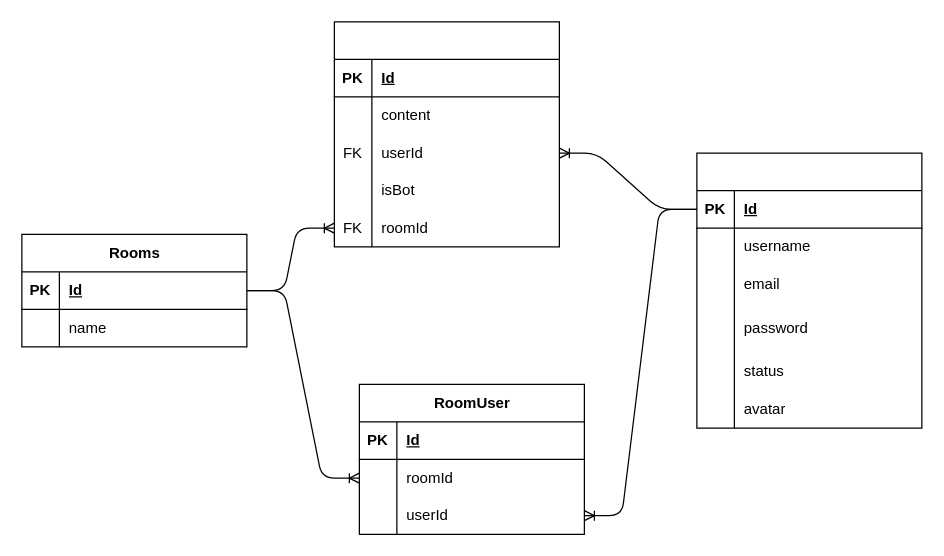
Some shapes in this 944 by 556 pixel diagram are drawn without their labels. Each missing label, with the box of its shape:
Messages: (333, 21, 559, 247)
Users: (696, 152, 922, 428)
